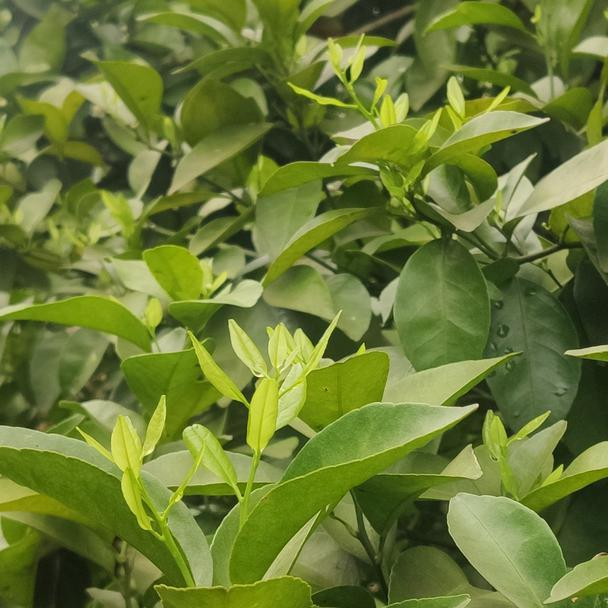shoot: (189, 319, 337, 472), (86, 423, 193, 552), (305, 39, 389, 131)
